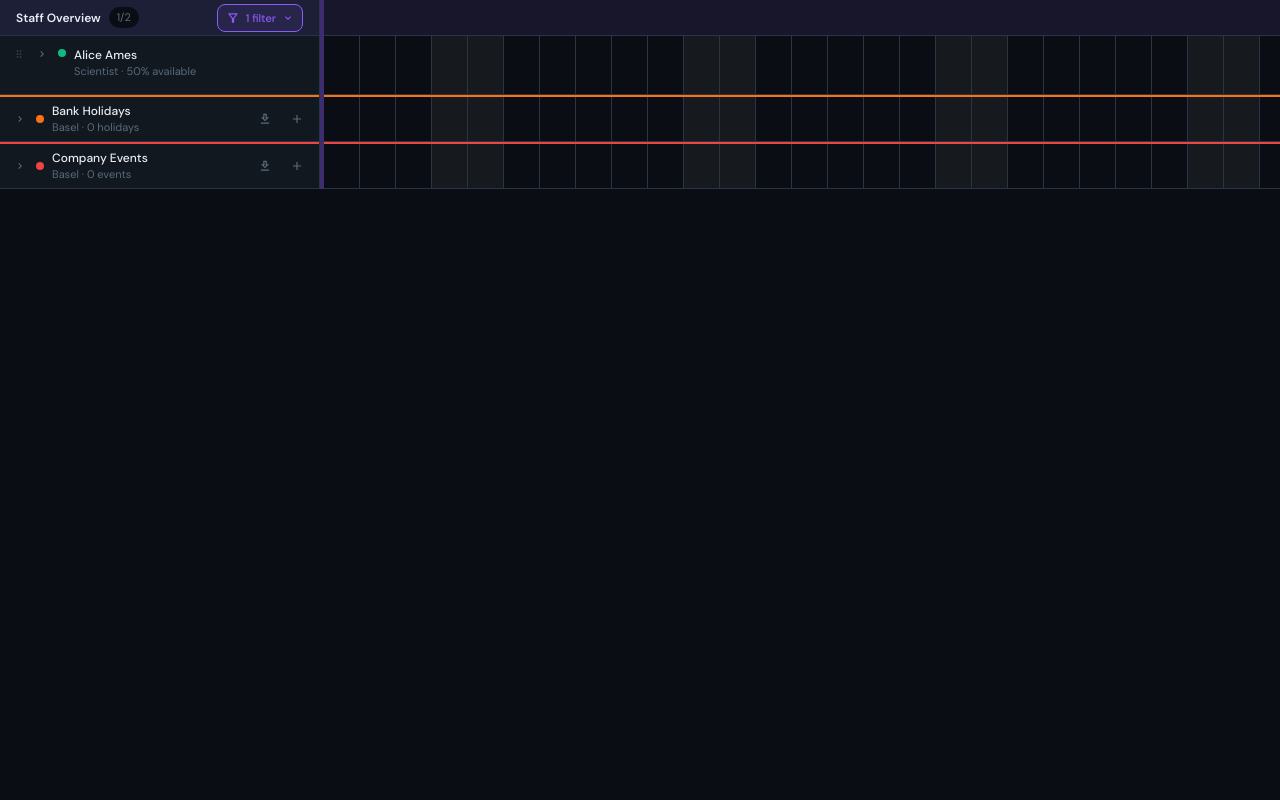
it: StaffView panel › starts the Gantt panel with the admin's default skills that still exist, ignoring unknown ids; Clear works for the session
Expected: the text "Alice Ames" is shown, [74,47,137,63]
Expected: the text "Bob Brown" is not shown
Click the button "1 filter" at (260,18), box [217,4,303,32]
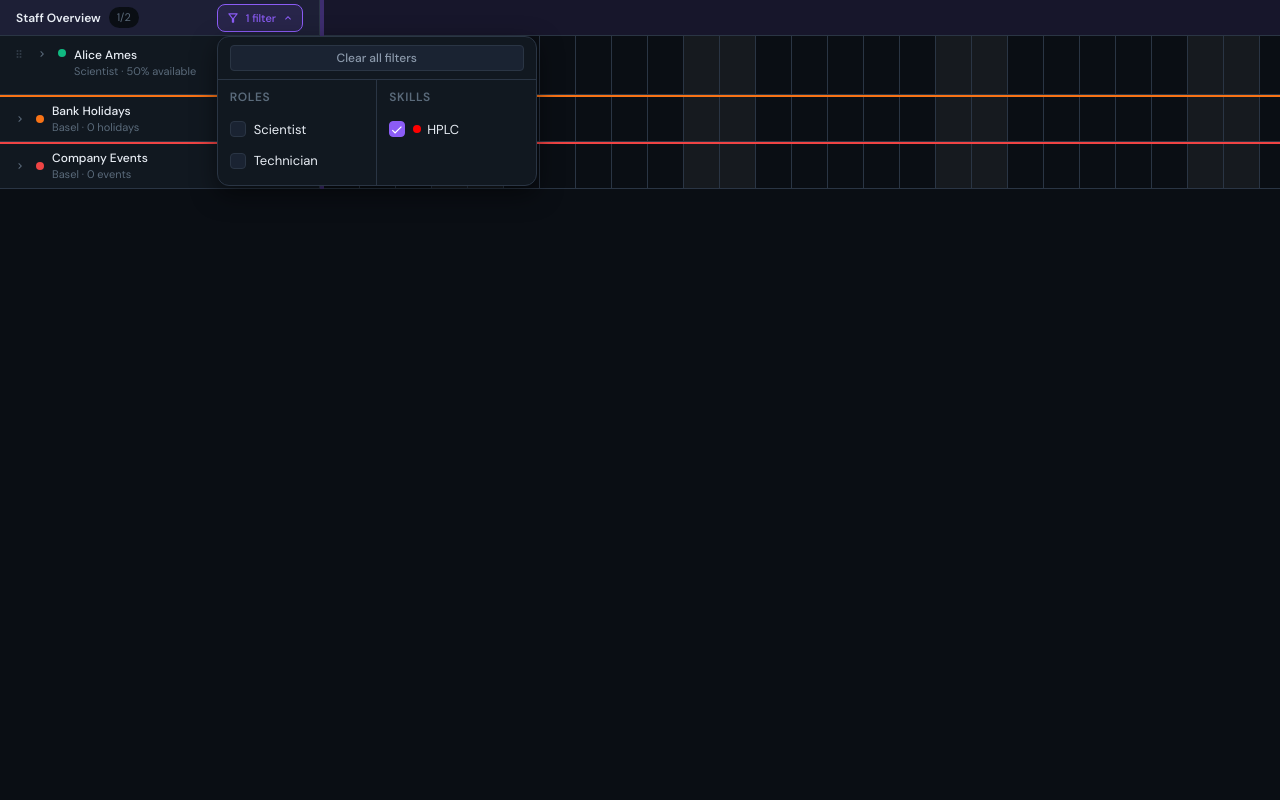
Result: the checkbox labelled "HPLC" is checked at [389,120,459,138]
Click the button "Clear all filters" at (377,58), box [230,44,524,70]
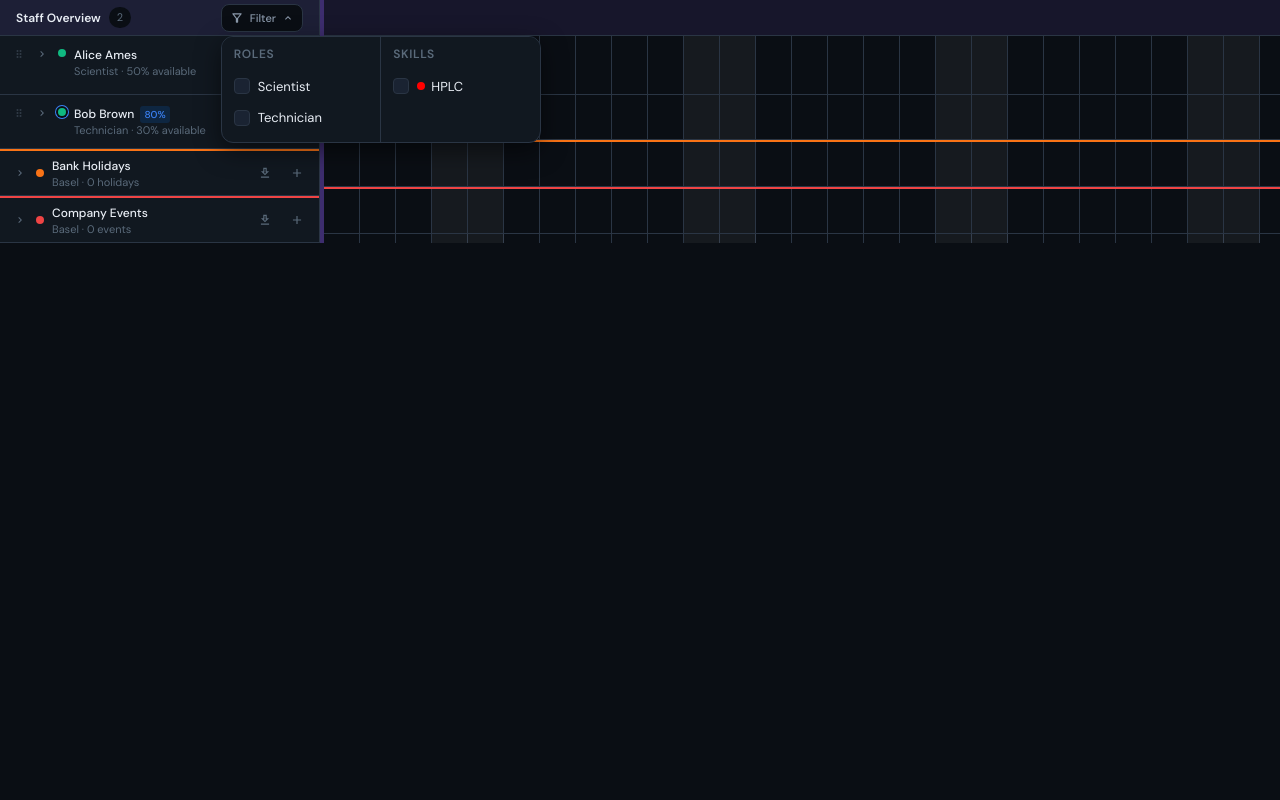
Result: the text "Bob Brown" is shown at [74,106,134,122]
